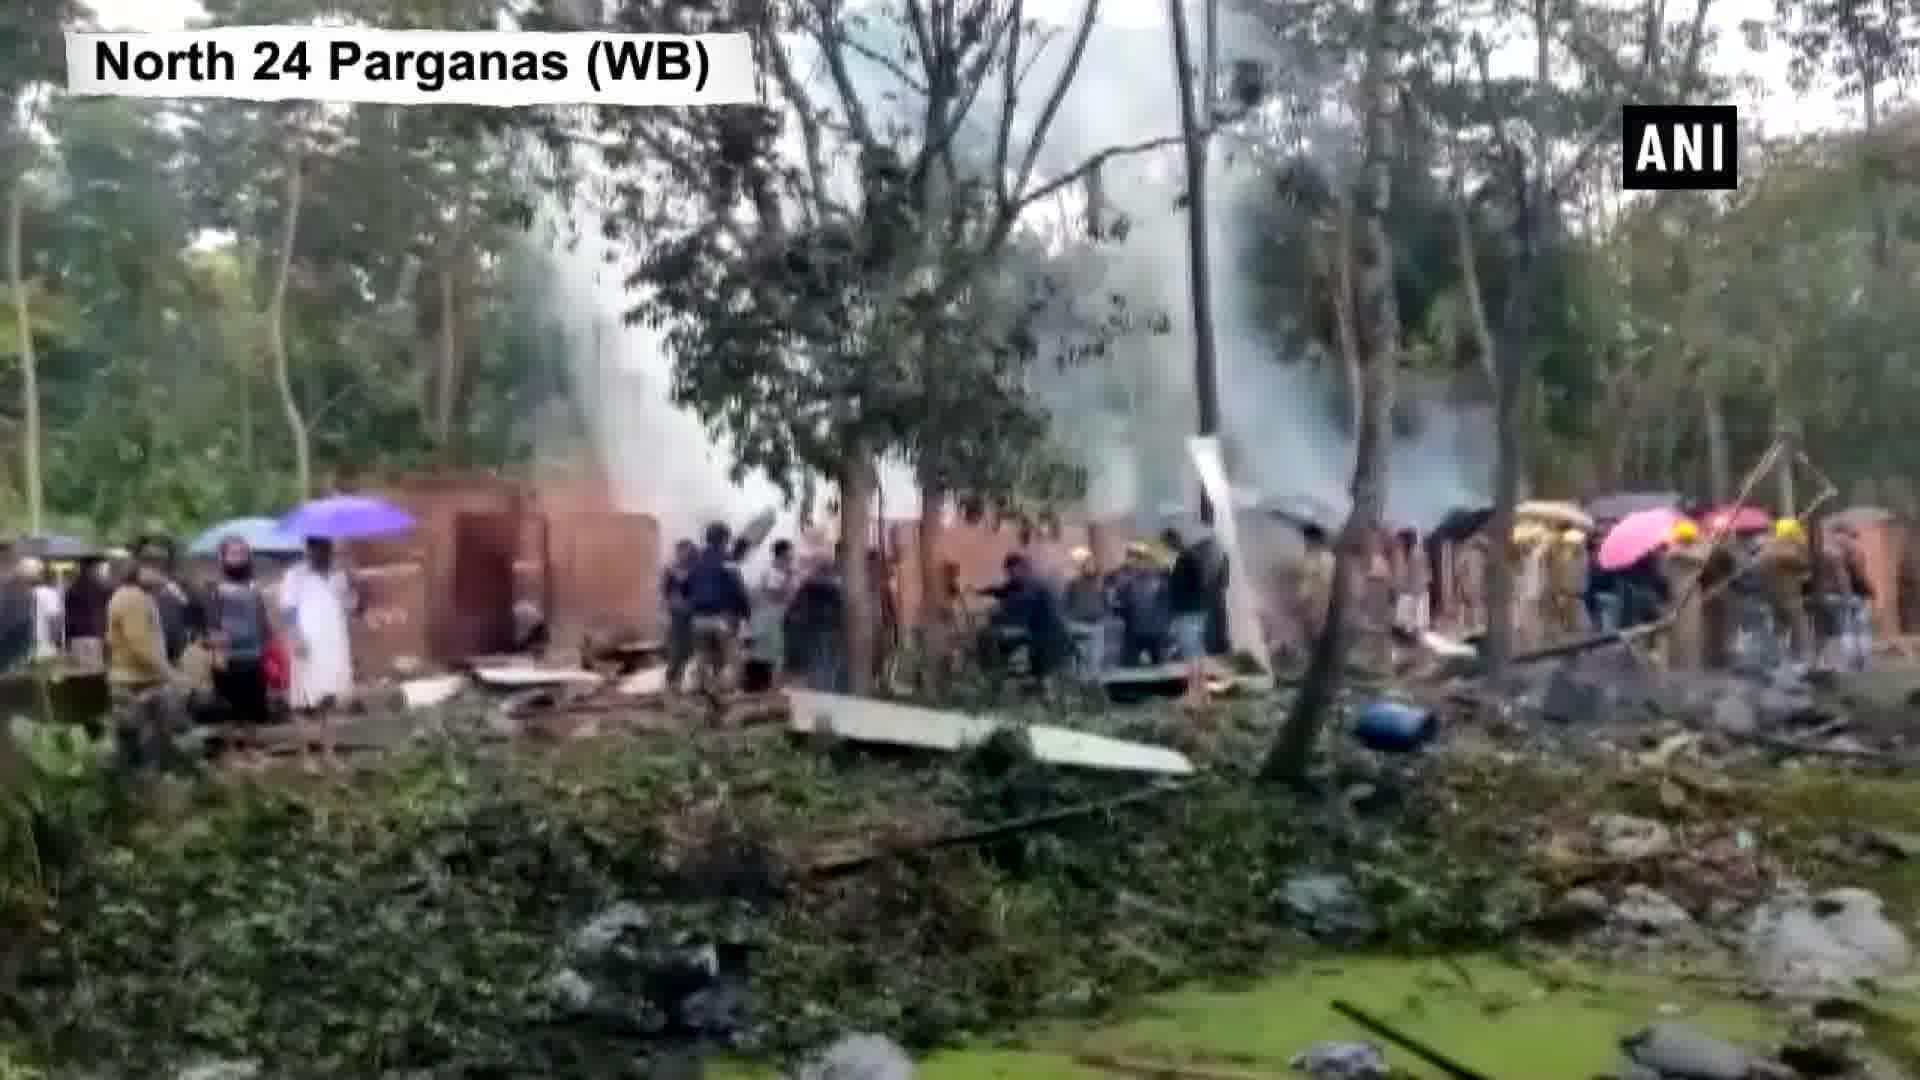smoke: (1056, 18, 1188, 410), (1207, 170, 1346, 525), (579, 290, 732, 524), (1386, 409, 1489, 530)
